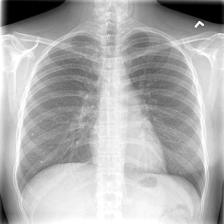normal: (10, 30, 212, 204)
